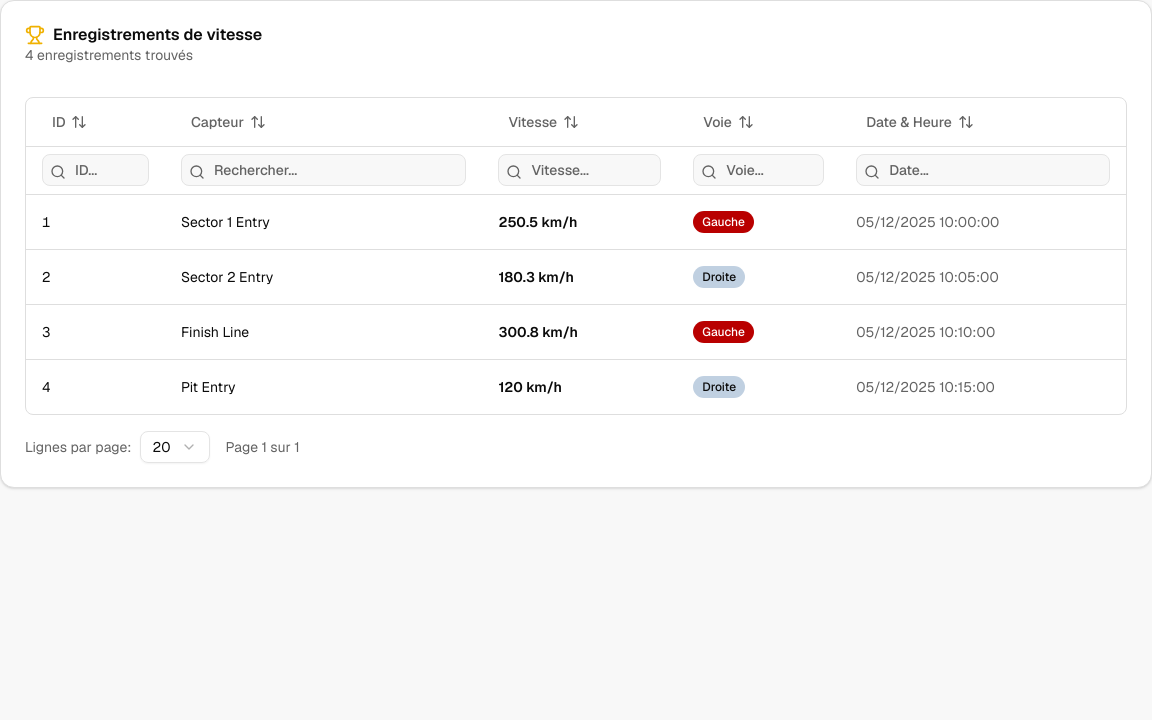
SpeedRecords › Filtering › filters by sensor name
Type "Sector" into the field with placeholder "Rechercher..." at point(324, 170), box [181, 154, 466, 186]
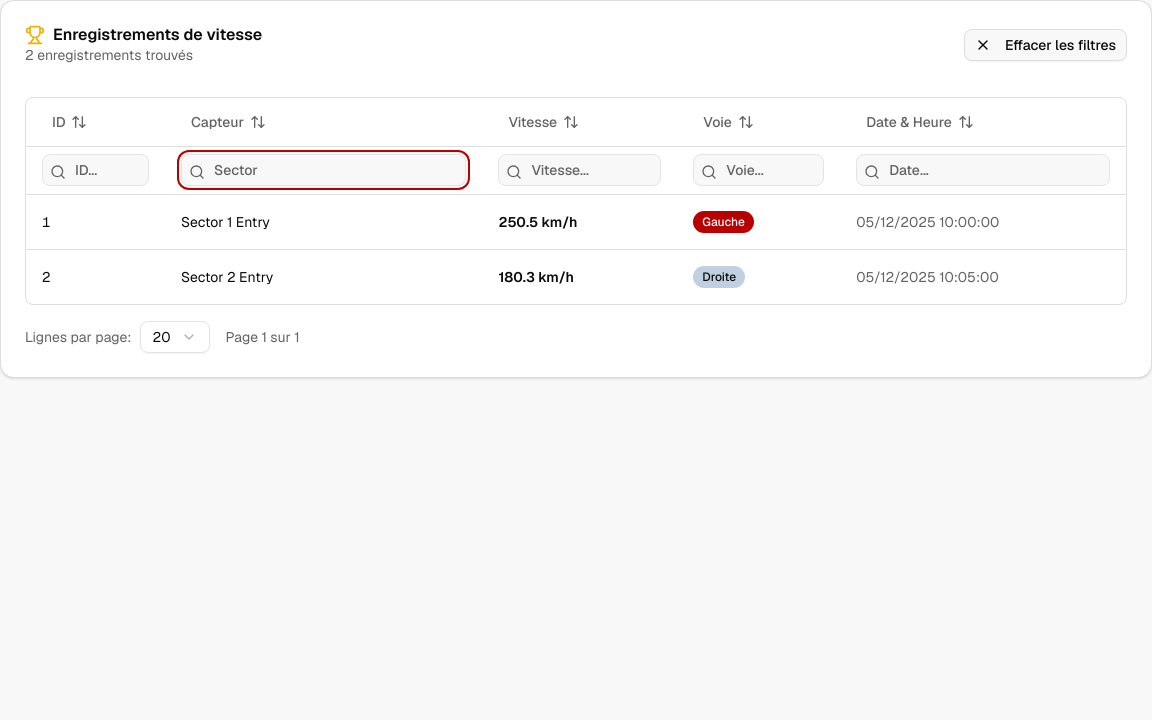
Check: the text "2 enregistrements trouvés" is shown, box [25, 46, 193, 64]
